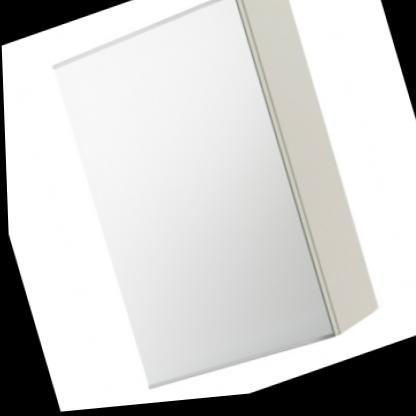Cabinet: (39, 0, 386, 413)
